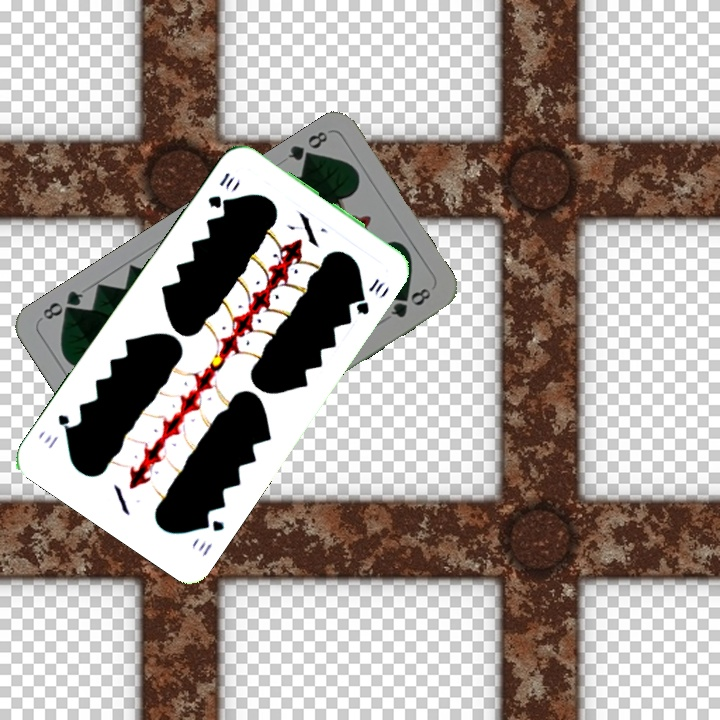G10: (193, 513, 227, 560), (203, 168, 238, 212)
G8: (283, 127, 331, 168)
